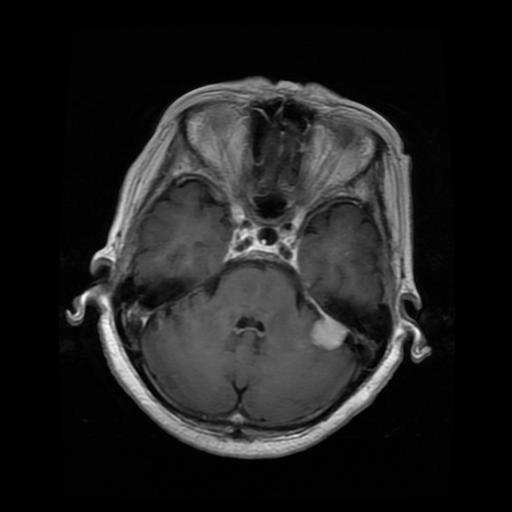Tumour-Meningioma: (295, 299, 357, 364)
